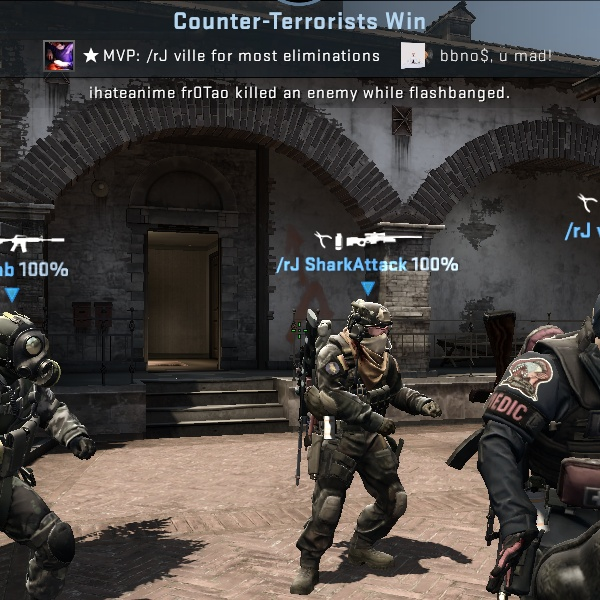ct_body: (290, 294, 448, 586), (0, 293, 114, 600)
ct_head: (0, 303, 52, 383), (340, 297, 403, 361)
